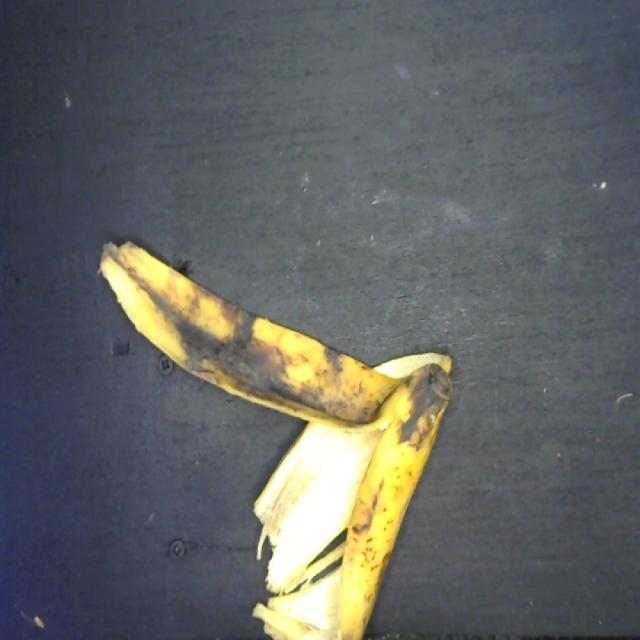biodegradable: (100, 229, 458, 640)
